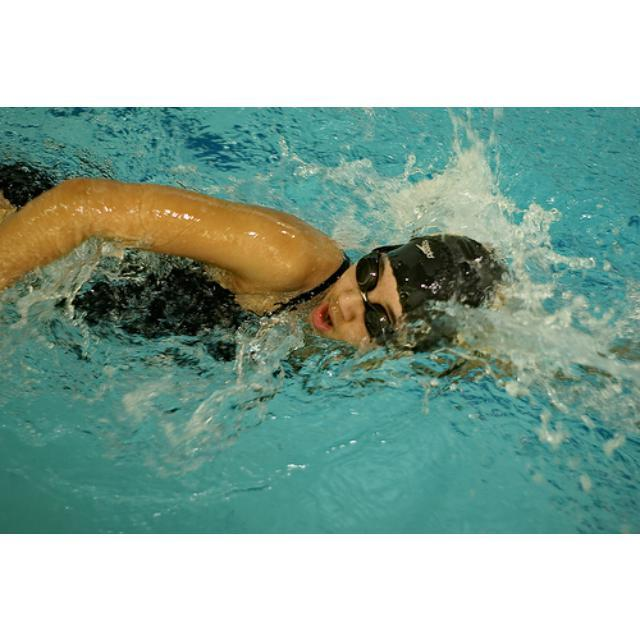human: (1, 178, 628, 365)
